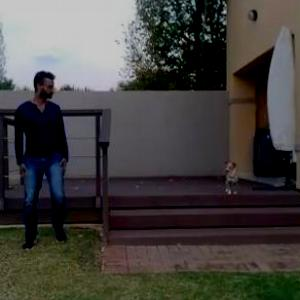follow: (21, 66, 74, 257)
